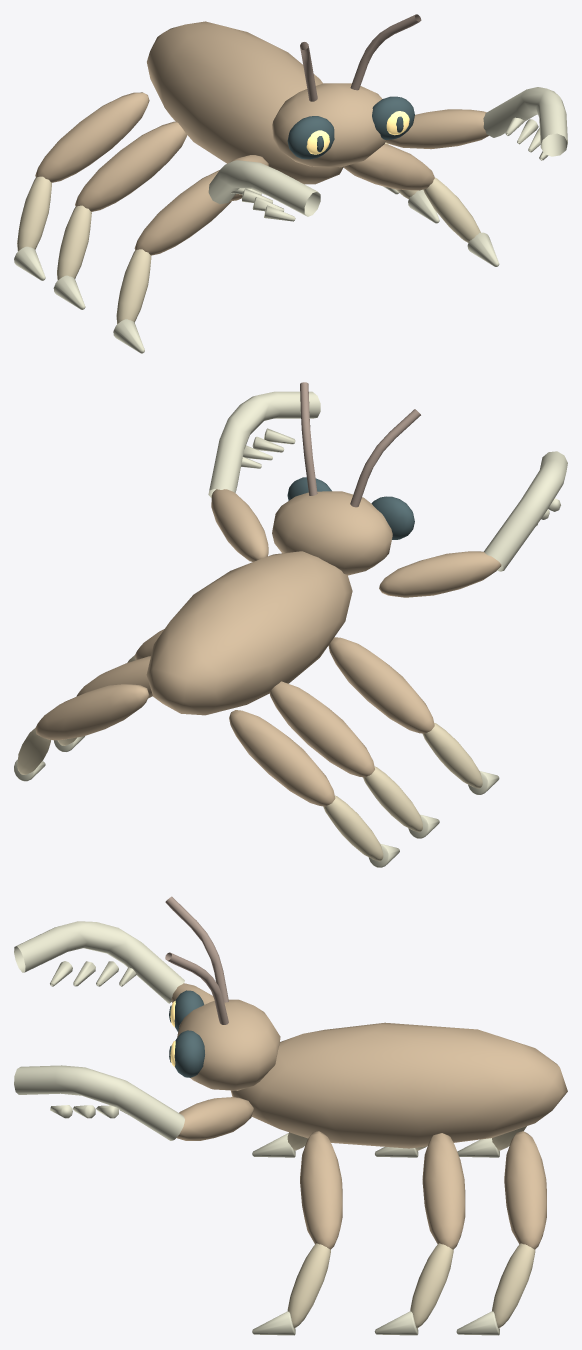
Rendered from bio_mantid_06_far.glb.
3 renders of one model, top to bottom at view 1: azimuth 30°, elevation 25°; view 2: azimuth 150°, elevation 25°; view 3: azimuth 270°, elevation 25°, orthographic. The views are drawn at different scales.
Parts seen in each view (by area): view 1: Articulated abdomen, Cranium, Upper leg.004, Upper leg.002, Swept scythe, Swept scythe.001, Upper leg, Raptorial arm.001, Upper leg.001, Protected orbit, Lower leg.004, Lower leg (+9 smaller); view 2: Articulated abdomen, Cranium, Swept scythe.001, Upper leg.004, Upper leg, Upper leg.002, Upper leg.005, Raptorial arm, Swept scythe, Raptorial arm.001, Antenna, Lower leg (+5 smaller); view 3: Articulated abdomen, Cranium, Swept scythe, Swept scythe.001, Upper leg.001, Upper leg.005, Upper leg.003, Raptorial arm.001, Antenna, Lower leg.005, Lower leg.001, Lower leg.003 (+6 smaller).
Boxes of the visible parts, x1,y1,x2,y2 form: Articulated abdomen: (147,21,343,184); Cranium: (272,83,386,167); Upper leg.004: (35,92,149,182); Upper leg.002: (75,121,187,211); Swept scythe: (208,160,320,221); Swept scythe.001: (483,87,567,160); Upper leg: (134,170,231,255); Raptorial arm.001: (385,109,488,149); Upper leg.001: (343,144,434,190); Protected orbit: (287,96,414,159); Lower leg.004: (17,176,51,250); Lower leg: (116,249,151,323); Articulated abdomen: (146,551,352,715); Cranium: (272,491,392,575); Swept scythe.001: (208,391,320,497); Upper leg.004: (229,710,335,806); Upper leg: (328,637,434,733); Upper leg.002: (269,681,374,777); Upper leg.005: (35,684,149,740); Raptorial arm: (379,551,501,597); Swept scythe: (484,451,567,571); Raptorial arm.001: (211,489,268,561); Antenna: (300,382,420,507); Lower leg: (422,722,482,788); Articulated abdomen: (230,1022,567,1148); Cranium: (177,999,280,1090); Swept scythe: (14,921,184,1003); Swept scythe.001: (14,1065,184,1140); Upper leg.001: (300,1131,342,1249); Upper leg.005: (504,1131,546,1249); Upper leg.003: (422,1133,465,1249); Raptorial arm.001: (176,1097,253,1140); Antenna: (165,896,228,1024); Lower leg.005: (492,1243,535,1328); Lower leg.001: (287,1243,330,1328); Lower leg.003: (410,1243,453,1328).
Bounding box in the file's own units: 2.51 × 1.99 × 3.12.
